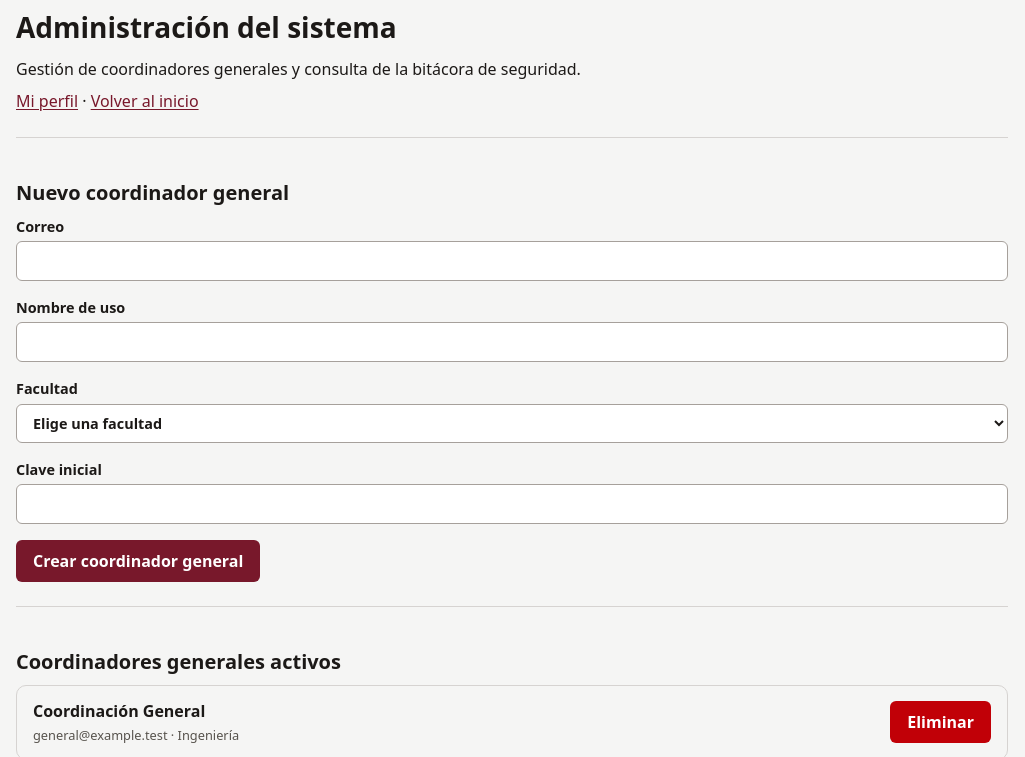
it: panel de administración › envía los datos del formulario y recarga la lista
Check: the text "Coordinación General" is shown, box [33,700,205,722]
Type "nuevo@example.test" into the field labelled "Correo" at coordinates (512, 261), box [16,241,1008,281]
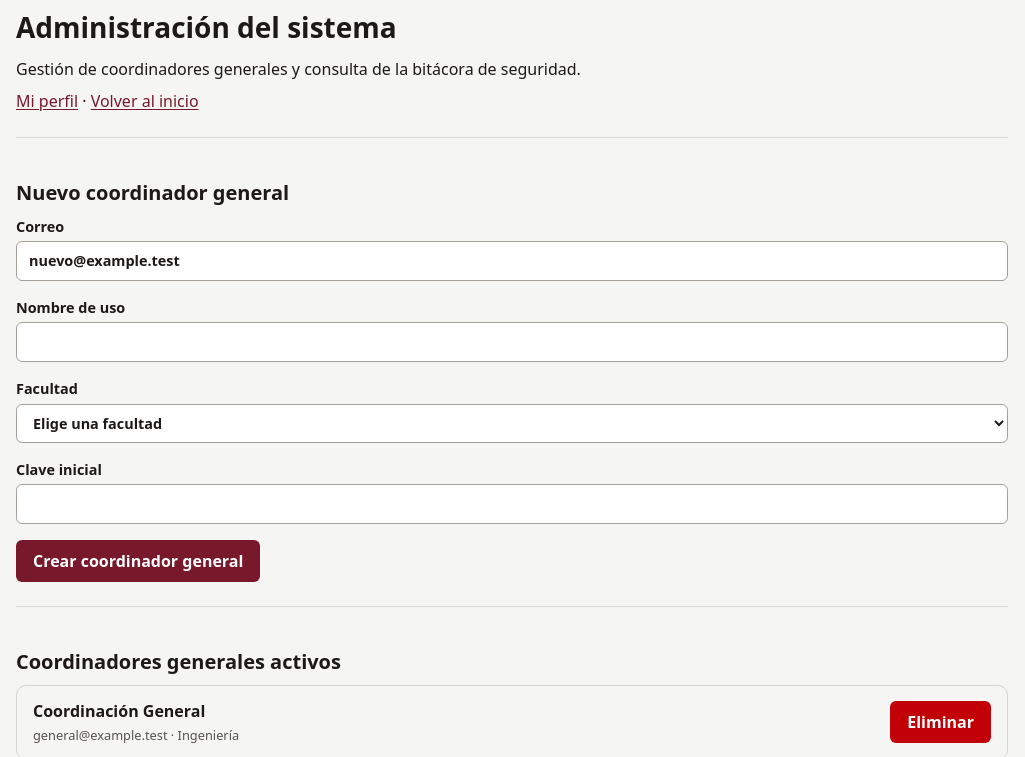
Type "Nuevo General" into the field labelled "Nombre de uso" at coordinates (512, 342), box [16,322,1008,362]
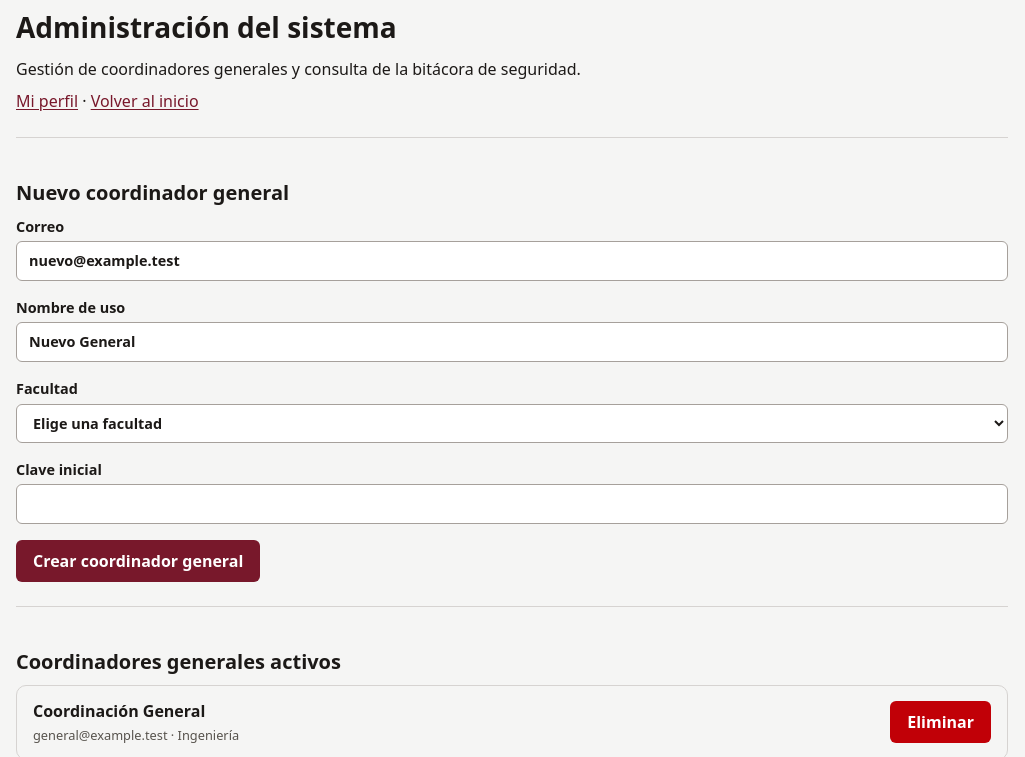
Select "Ingeniería" in the dropdown labelled "Facultad" at coordinates (512, 423), box [16,404,1008,443]
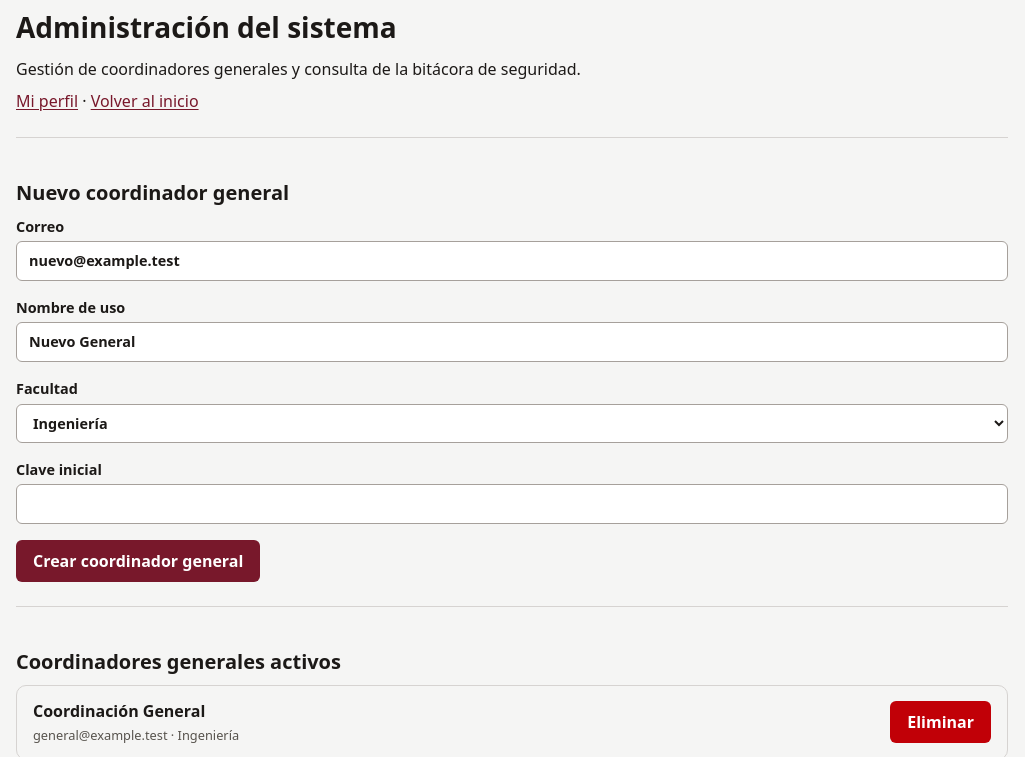
Type "Clave-Segura-2026!" into the password field labelled "Clave inicial" at coordinates (512, 504), box [16,484,1008,524]
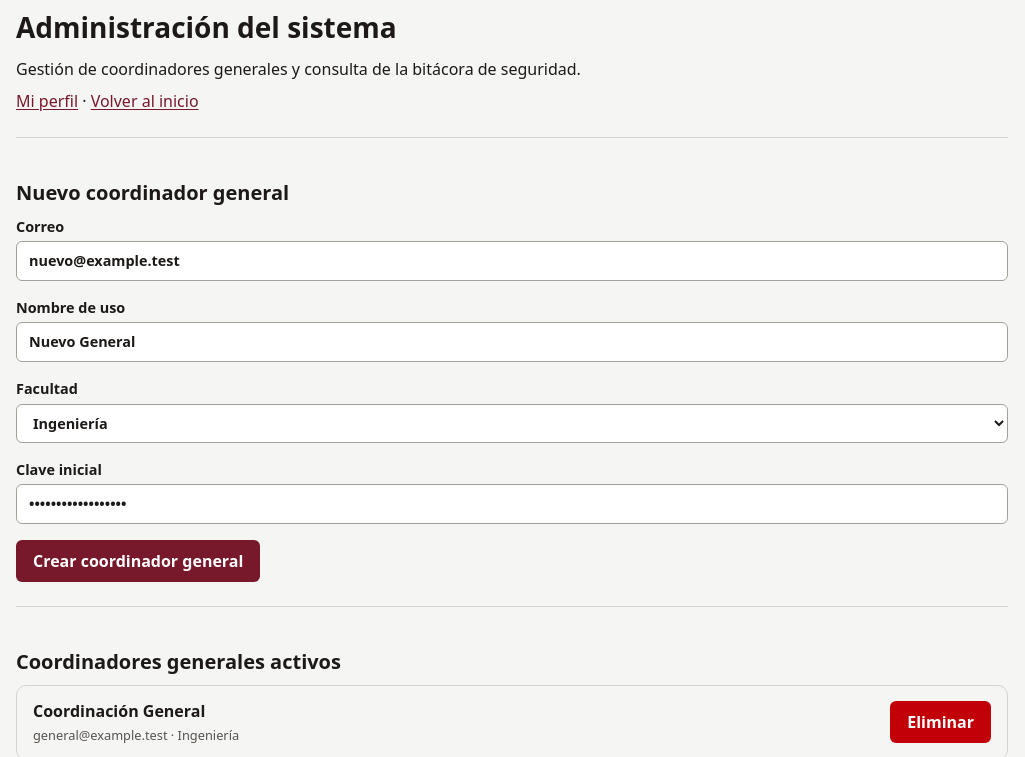
Click the button "Crear coordinador general" at coordinates (138, 561), box [16,540,260,582]
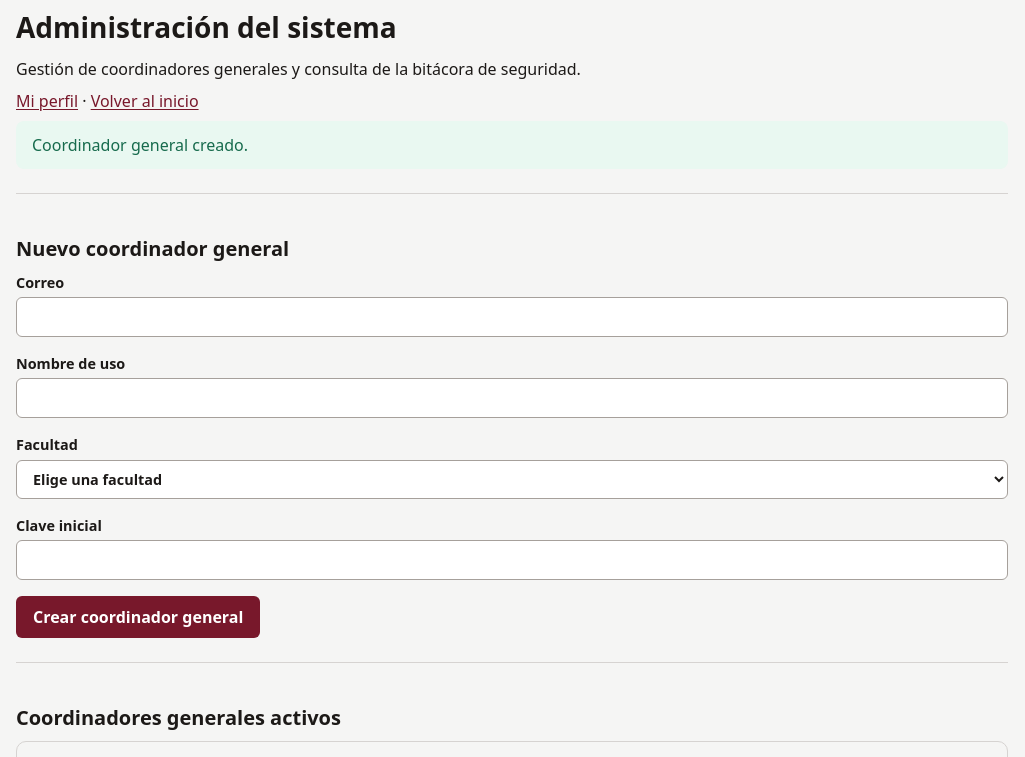
Check: the text "Coordinador general creado." is shown, box [16,121,1008,169]
